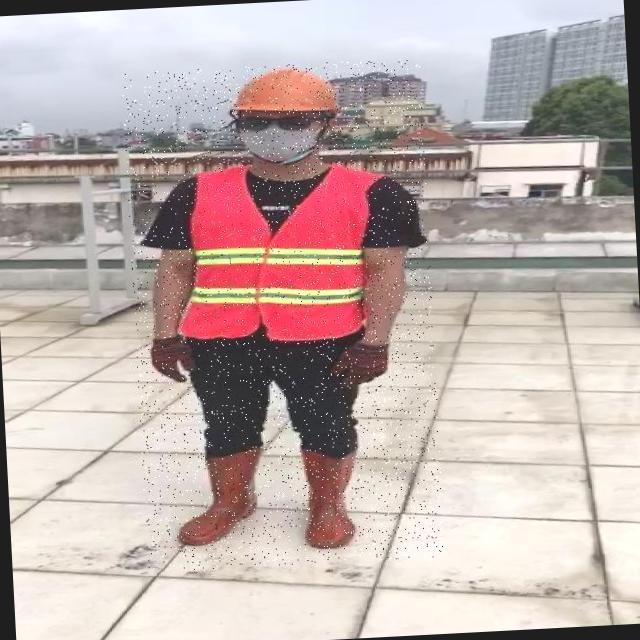boots: (170, 446, 264, 546), (297, 443, 364, 552)
gloves: (328, 326, 417, 398)
helmet: (226, 62, 344, 120)
vest: (170, 162, 379, 344)
